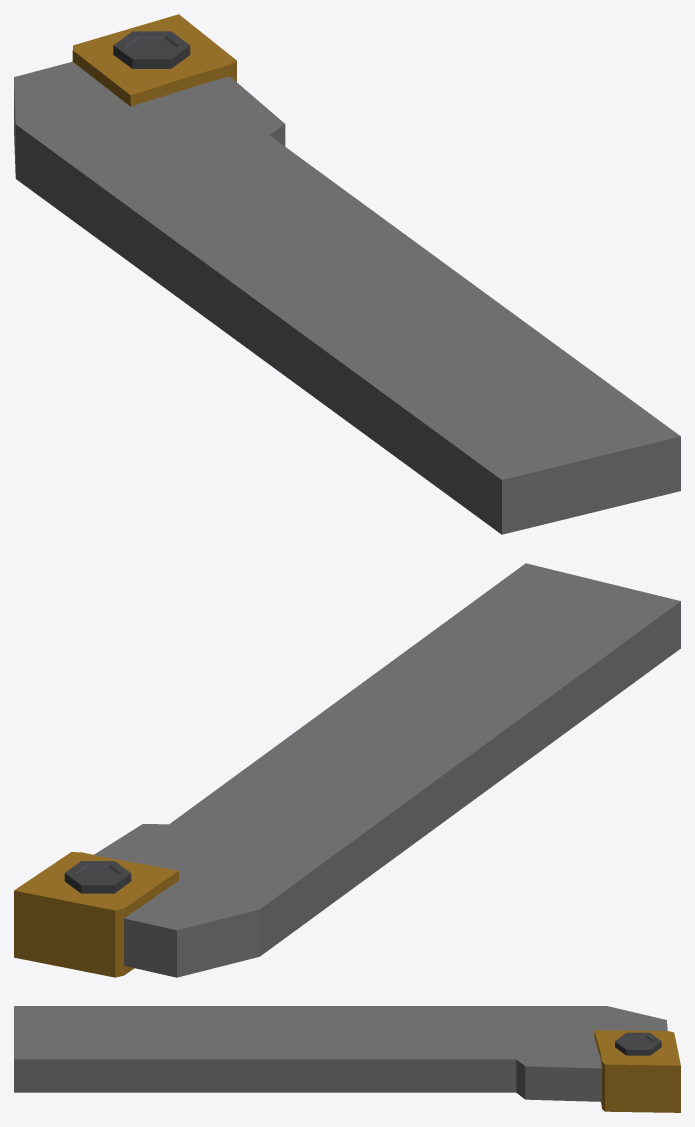
Rendered from MCutter3.fbx.
3 views of the same model, one above another, from view 1: azimuth 30°, elevation 25°; view 2: azimuth 150°, elevation 25°; view 3: azimuth 270°, elevation 25° (orthographic). The views are drawn at different scales.
Visible parts, largest first — view 1: Cutter3; view 2: Cutter3; view 3: Cutter3.
Boxes of the visible parts, box(x1,y1,x2,y2) form: Cutter3: box(14, 14, 680, 534); Cutter3: box(14, 563, 680, 977); Cutter3: box(14, 1006, 680, 1112).
Size of the model in its own units: 46.99 by 19.4 by 199.
